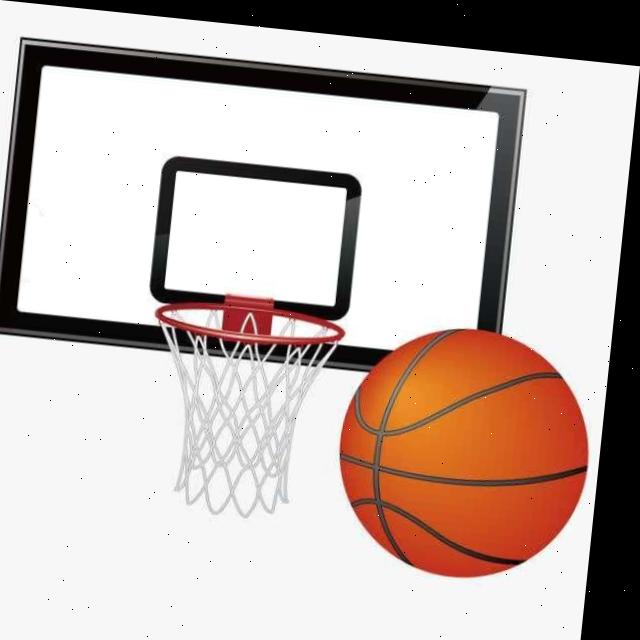basketball: (330, 317, 602, 591)
hoop: (130, 299, 347, 524)
